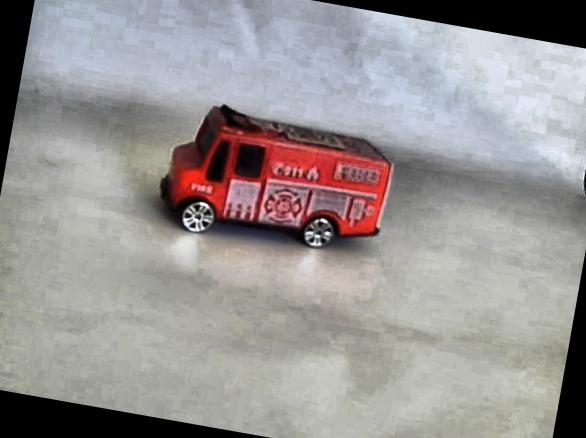fire_truck: (148, 89, 406, 269)
